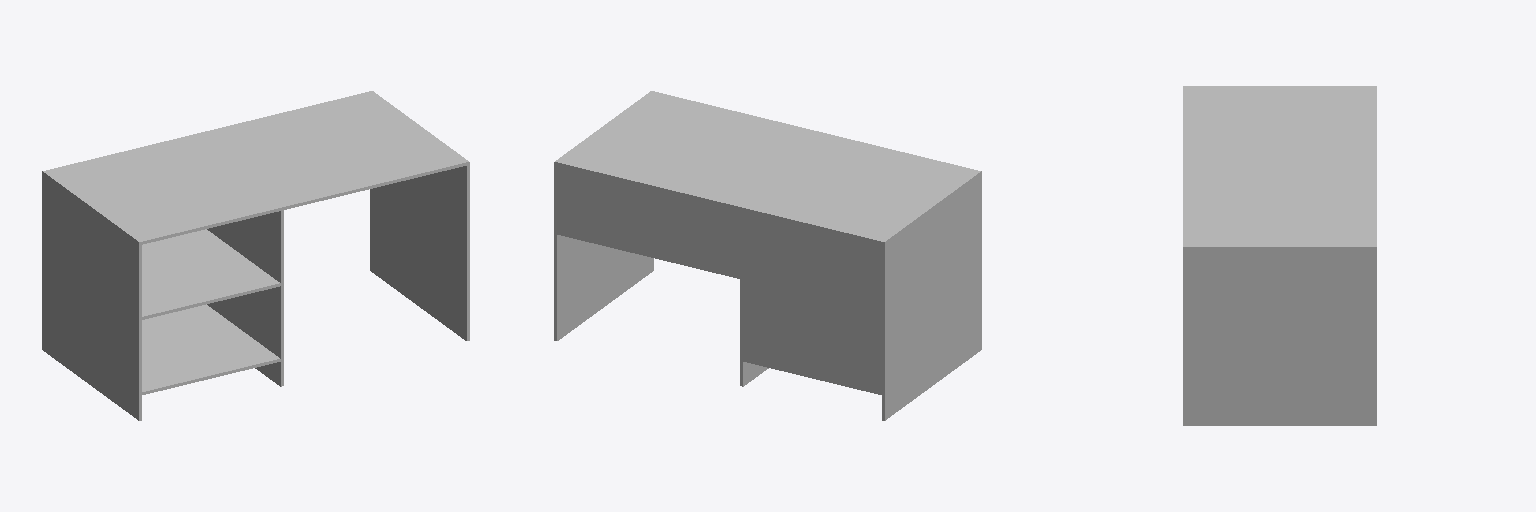
The model's file is Table.obj.
The picture shows the model from 3 angles: view 1: azimuth 30°, elevation 25°; view 2: azimuth 150°, elevation 25°; view 3: azimuth 270°, elevation 25°; orthographic projection.
Parts seen in each view (by area): view 1: Table; view 2: Table; view 3: Table.
Part boxes in pixels (x1,y1,x2,y2): Table: (42, 91, 469, 420); Table: (554, 91, 981, 420); Table: (1183, 86, 1376, 425).
Size of the model in its own units: 110 by 57 by 56.